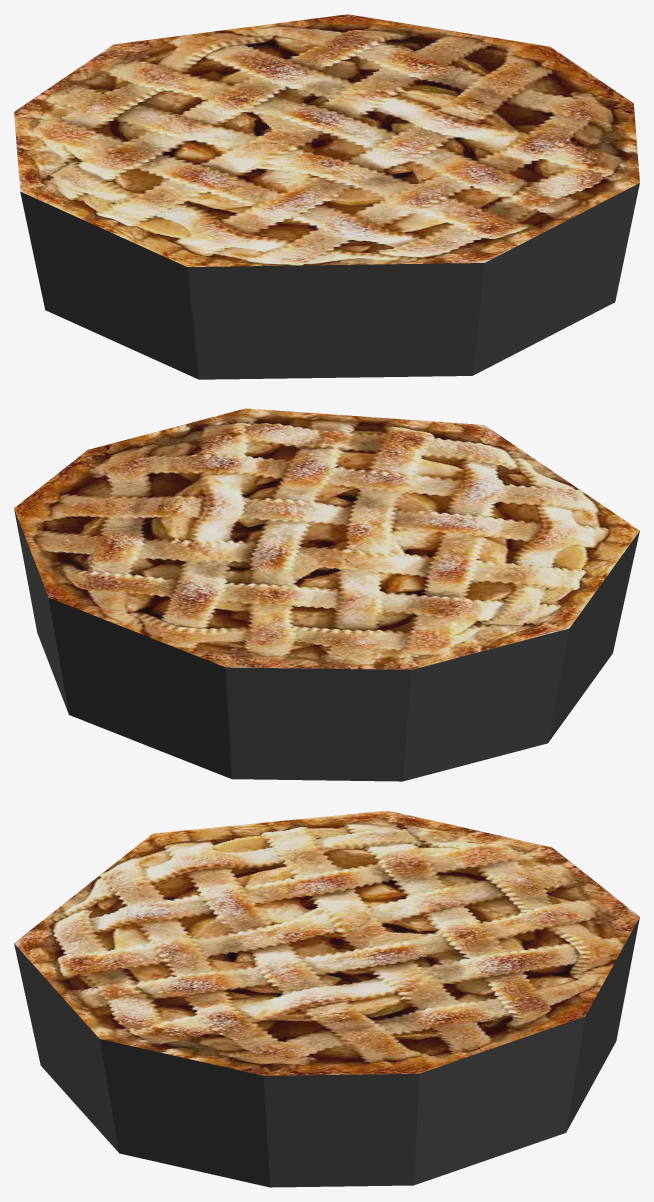
Rendered from apple pie.glb.
3 renders of one model, top to bottom at view 1: azimuth 30°, elevation 25°; view 2: azimuth 150°, elevation 25°; view 3: azimuth 270°, elevation 25°, orthographic.
Visible parts, largest first — view 1: Cylinder; view 2: Cylinder; view 3: Cylinder.
Part boxes in pixels (left/top/right/bottom): Cylinder: left=14, top=14, right=639, bottom=379; Cylinder: left=14, top=408, right=639, bottom=781; Cylinder: left=14, top=810, right=639, bottom=1187.
Size of the model in its own units: 0.3044 by 0.0651 by 0.3034.
Materials: 2 (1 with a texture image).
